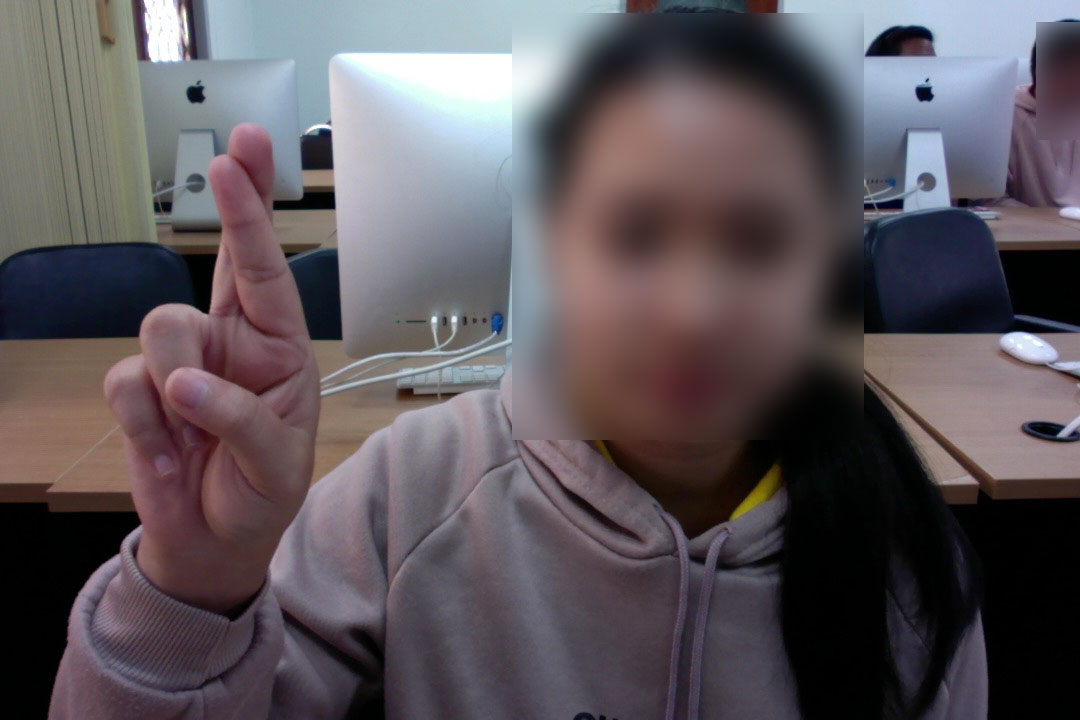rao: (97, 119, 329, 548)
